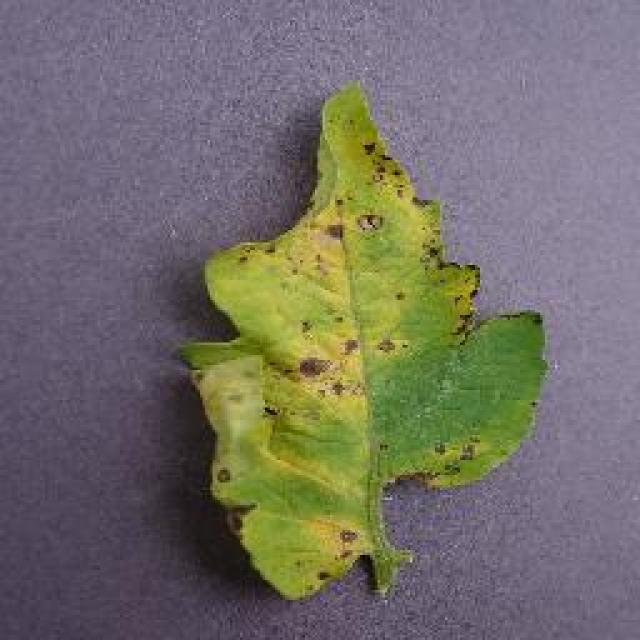Tomato target spot leaf: (168, 81, 548, 601)
